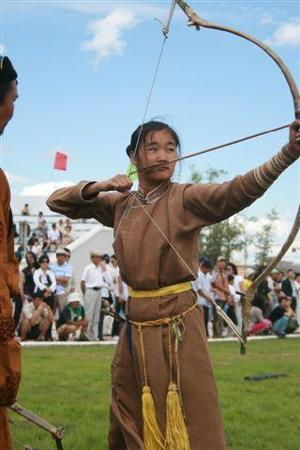person: (47, 118, 300, 450)
